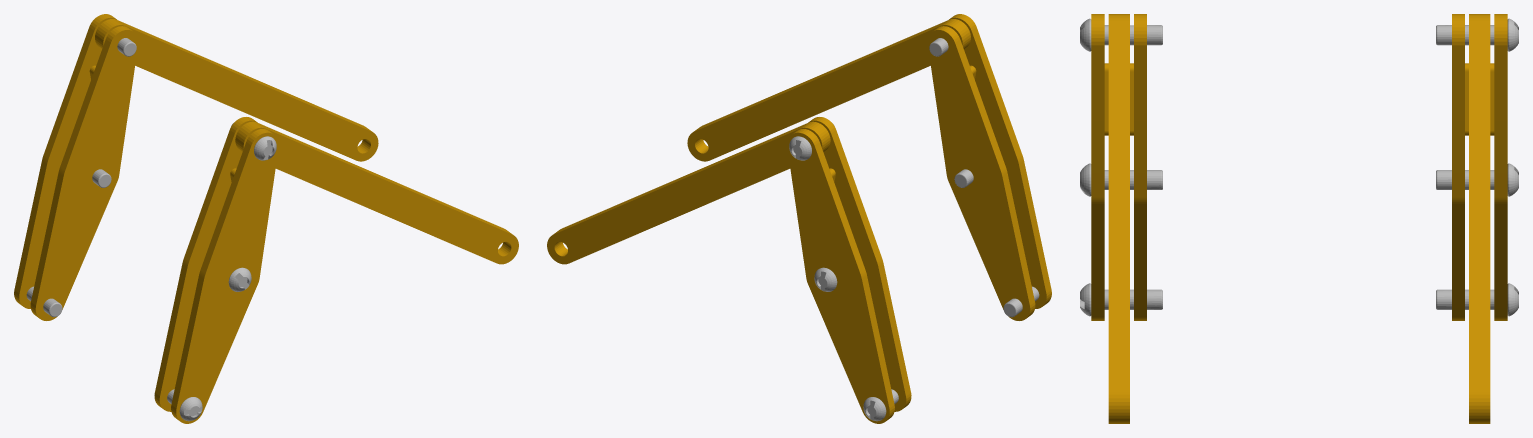
File: bucket_link_visual.dae
The picture shows the model from 3 angles, left to right: view 1: azimuth 30°, elevation 25°; view 2: azimuth 150°, elevation 25°; view 3: azimuth 270°, elevation 25°; orthographic projection. The views are drawn at different scales.
Parts seen in each view (by area): view 1: BucketLink.001; view 2: BucketLink.001; view 3: BucketLink.001.
Boxes of the visible parts, x1=… form: BucketLink.001: x1=14, y1=14, x2=518, y2=423; BucketLink.001: x1=547, y1=14, x2=1051, y2=423; BucketLink.001: x1=1080, y1=14, x2=1518, y2=423.
Size of the model in its own units: 4.88 by 4.14 by 3.64.
